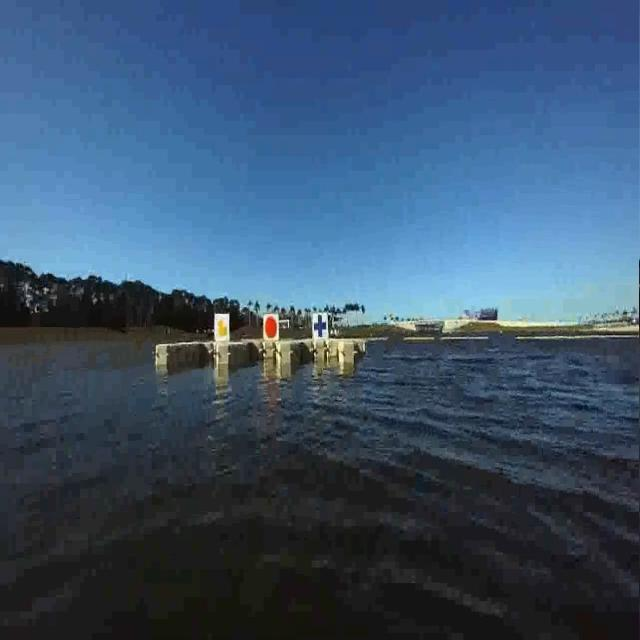blue-cross: (312, 312, 329, 343)
red-dot: (263, 312, 280, 343)
yellow-duck: (218, 318, 228, 336)
